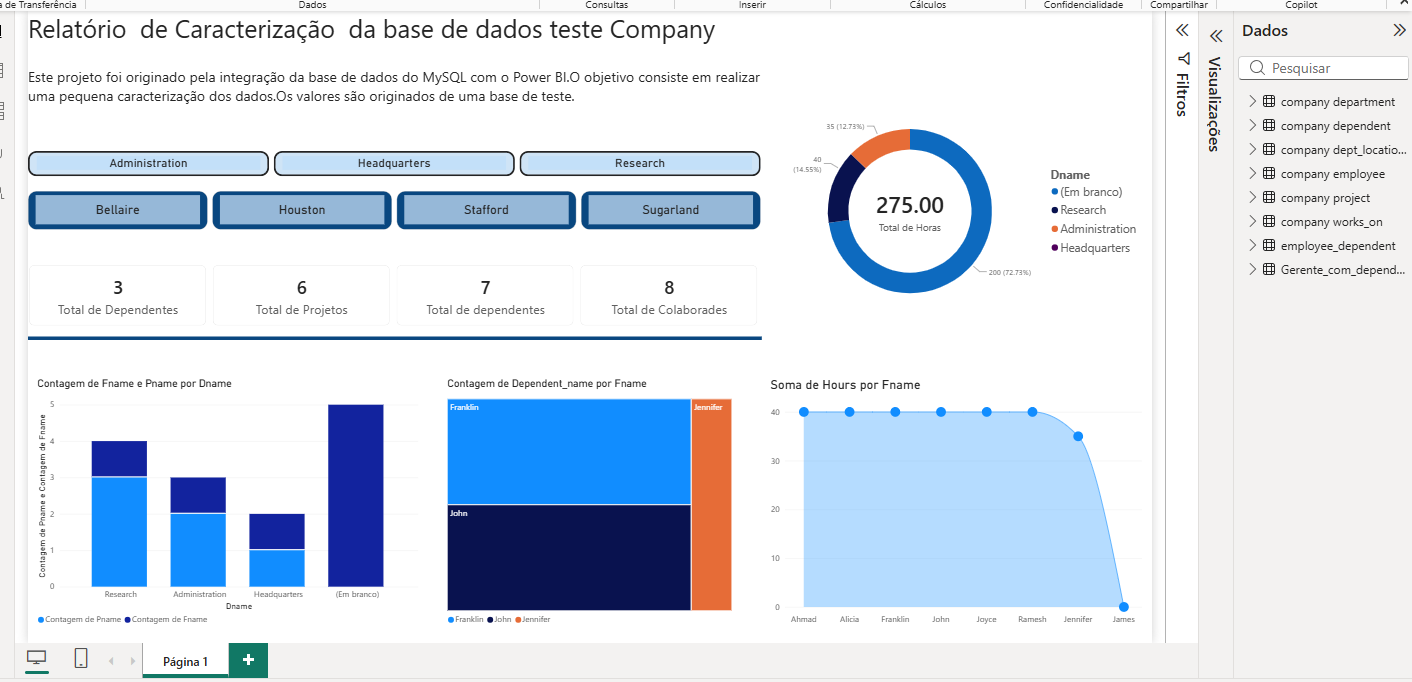

The page's visual inventory and layout, read from the dashboard file:
{"tool":"powerbi","page":{"name":"Página 1","canvas":[1920,1080],"ordinal":0},"visuals":[{"type":"donutChart","title":"Soma de Hours por Dname","fields":{"Category":["company department.Dname"],"Y":["Sum(company works_on.Hours)"]},"box":[1251.7,36.7,668.3,610.9],"z":0},{"type":"treemap","title":"Contagem de Dependent_name por Fname","fields":{"Group":["company employee.Fname"],"Values":["CountNonNull(company dependent.Dependent_name)"]},"box":[699.9,612,518.2,459],"z":1000},{"type":"columnChart","title":"Contagem de Fname e Pname  por Dname","fields":{"Y":["CountNonNull(company project.Pname)","CountNonNull(company employee.Fname)"],"Category":["company department.Dname"]},"box":[0,612,682.7,459],"z":1001},{"type":"areaChart","title":"Soma de Hours por Fname","fields":{"Category":["company employee.Fname"],"Y":["Sum(company works_on.Hours)"]},"box":[1252.6,612,667.4,459],"z":1002},{"type":"textbox","box":[0,0,1252.6,221.8],"z":1003},{"type":"advancedSlicerVisual","fields":{"Values":["company department.Dname"]},"box":[0,239,1252.6,44],"z":1004},{"type":"advancedSlicerVisual","fields":{"Values":["company project.Plocation"]},"box":[0,307.8,1254,66.6],"z":1005},{"type":"cardVisual","fields":{"Data":["CountNonNull(company department.Dname)","CountNonNull(company project.Pnumber)","CountNonNull(company dependent.Dependent_name)","CountNonNull(company employee.Fname)"]},"box":[0,431.8,1251.7,107.9],"z":1006},{"type":"shape","box":[0,507.6,1254,103.3],"z":1007}]}

Visuals, with their boxes on the page's 1920x1080 design canvas (x1, y1, x2, y2). These are canvas units, not pixel positions in the 1412x682 screenshot, which may show the page scaled, cropped or inside an application window:
"Soma de Hours por Dname" donutChart: <box>1252,37,1920,648</box>
"Contagem de Dependent_name por Fname" treemap: <box>700,612,1218,1071</box>
"Contagem de Fname e Pname  por Dname" columnChart: <box>0,612,683,1071</box>
"Soma de Hours por Fname" areaChart: <box>1253,612,1920,1071</box>
textbox: <box>0,0,1253,222</box>
advancedSlicerVisual - company department.Dname: <box>0,239,1253,283</box>
advancedSlicerVisual - company project.Plocation: <box>0,308,1254,374</box>
cardVisual - CountNonNull(company department.Dname) x CountNonNull(company project.Pnumber): <box>0,432,1252,540</box>
shape: <box>0,508,1254,611</box>
